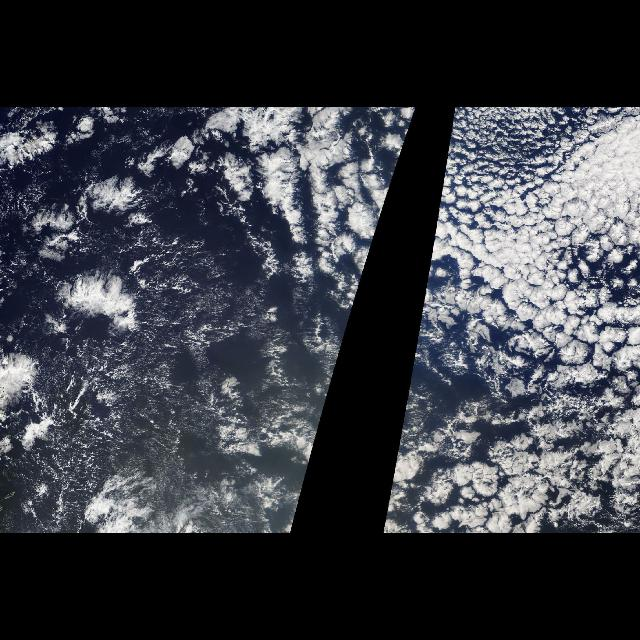Flower: (383, 108, 639, 532), (337, 108, 417, 366)
Gravel: (35, 319, 312, 463)
Sugar: (41, 334, 216, 492)
